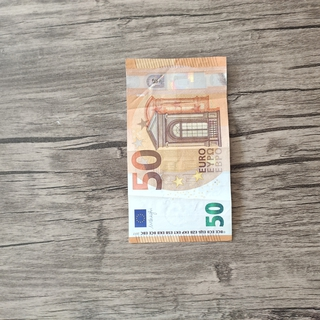50EUROFront: (124, 55, 233, 243)
